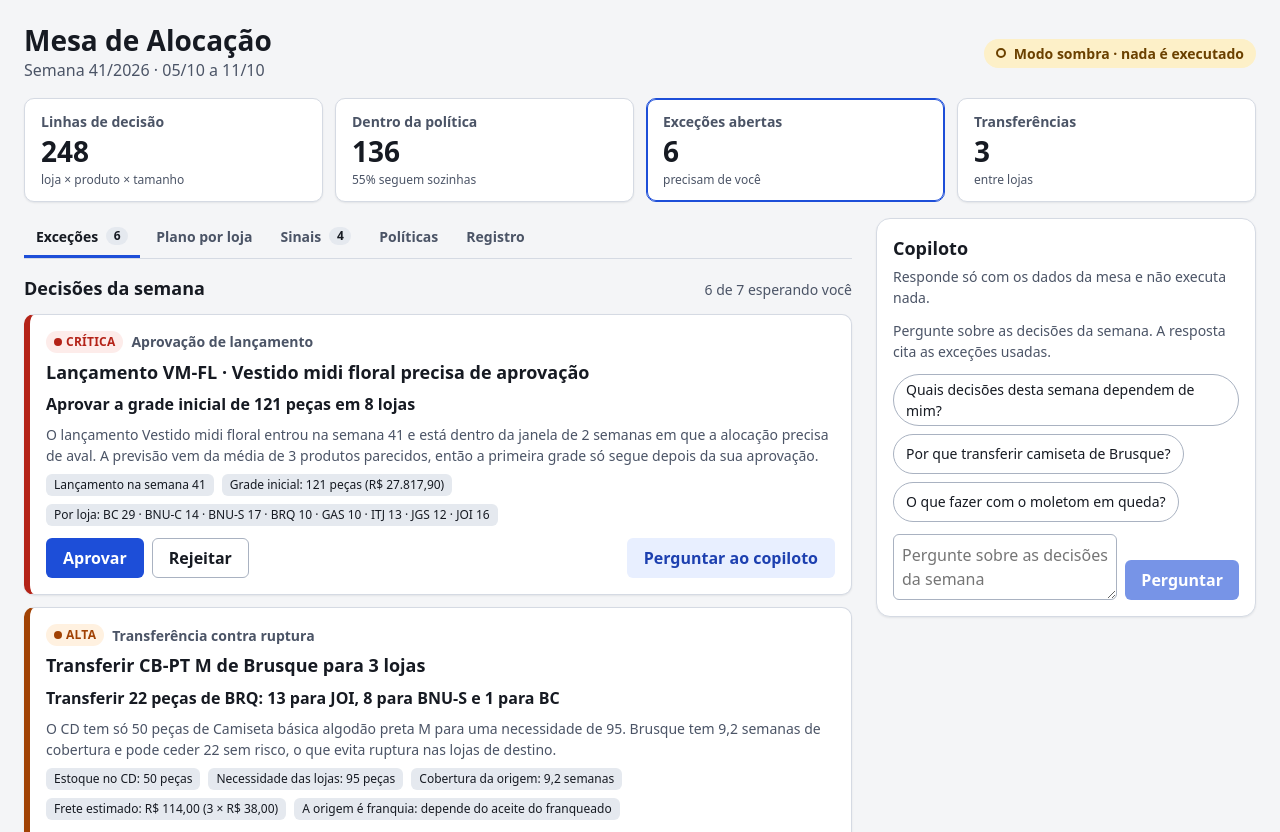
AllocationDesk › mostra o erro no card quando a decisão falha
Click the button "Aprovar" below "Lançamento na semana 41". click: click(95, 558)
box: [46,538,144,578]
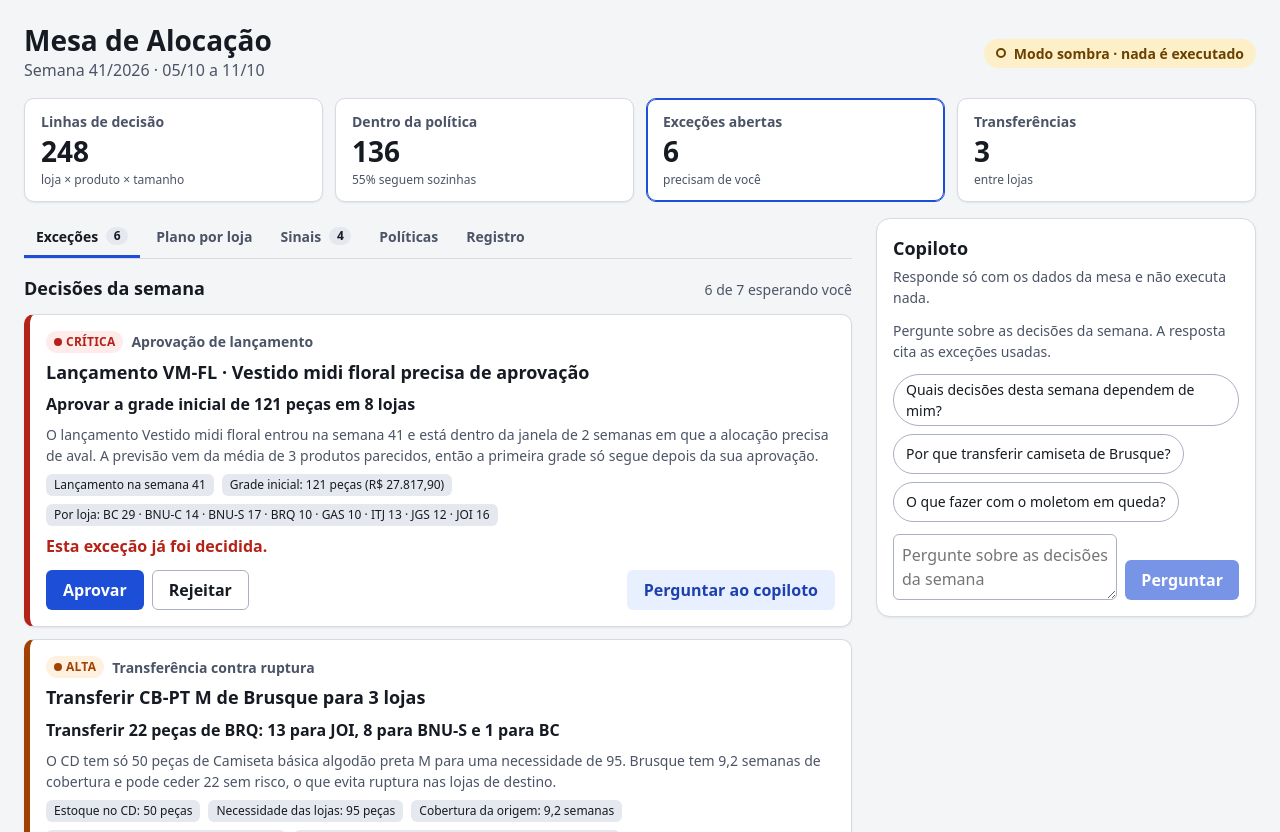
Result: the text "Esta exceção já foi decidida." is shown at [46,535,267,557]
